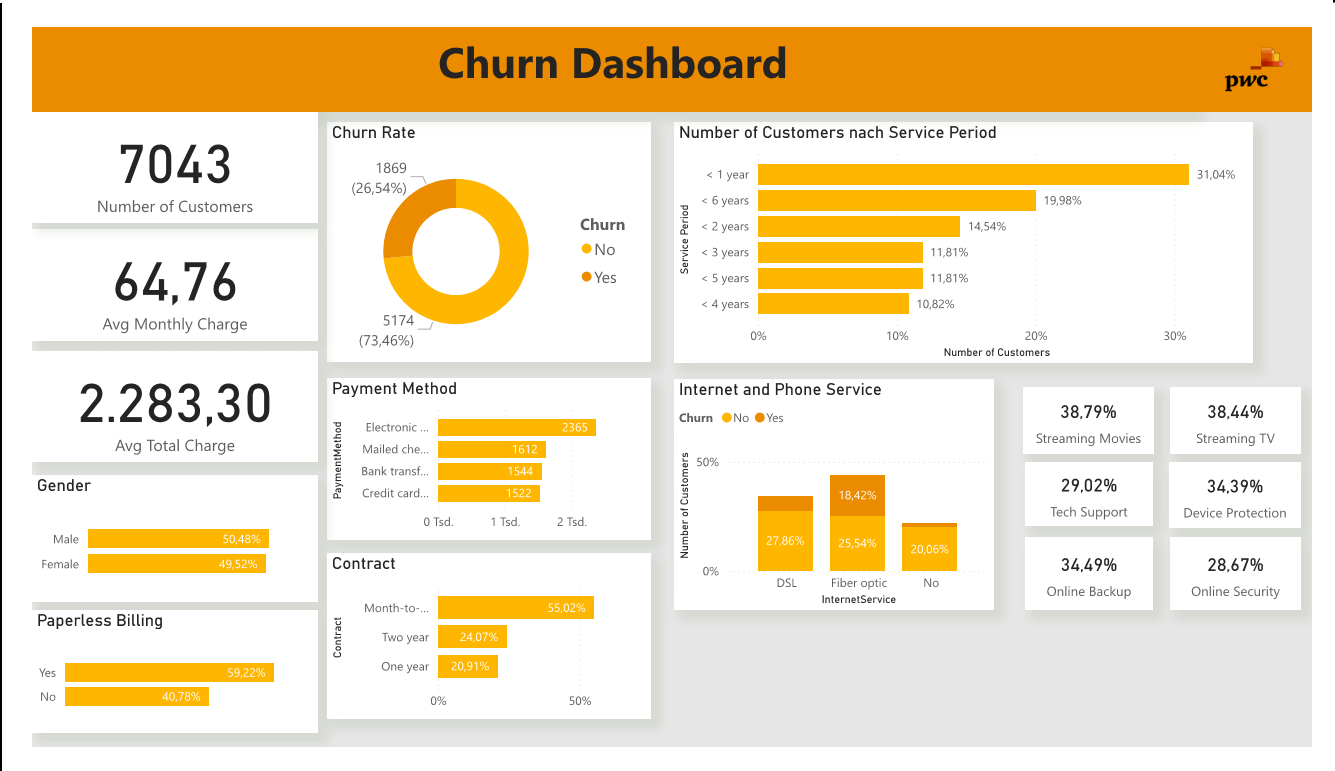

The page's visual inventory and layout, read from the dashboard file:
{"tool":"powerbi","page":{"name":"Seite 1","canvas":[1280,720],"ordinal":0},"visuals":[{"type":"textbox","box":[0,0,1161.8,85.3],"z":0,"group":"g1"},{"type":"donutChart","title":"Churn Rate","fields":{"Category":["01 Churn-Dataset.Churn"],"Y":["CountNonNull(01 Churn-Dataset.Churn)"]},"box":[295.1,94.7,323.7,239.8],"z":0},{"type":"card","fields":{"Values":["01 Churn-Dataset.Streaming Movies"]},"box":[990.8,360.2,131.3,67.1],"z":0,"group":"g2"},{"type":"image","box":[1162.1,0,117.9,85.3],"z":1000,"group":"g1"},{"type":"clusteredBarChart","title":"Payment Method","fields":{"Category":["01 Churn-Dataset.PaymentMethod"],"Y":["CountNonNull(01 Churn-Dataset.PaymentMethod)"]},"box":[295.1,351.3,323.7,161.9],"z":1000},{"type":"card","fields":{"Values":["01 Churn-Dataset.Streaming TV"]},"box":[1137.8,360.2,131.3,67.1],"z":1000,"group":"g2"},{"type":"card","fields":{"Values":["01 Churn-Dataset.Tech Support"]},"box":[992.8,435.2,128.3,64.1],"z":2000,"group":"g2"},{"type":"clusteredBarChart","title":"Gender","fields":{"Category":["01 Churn-Dataset.gender"],"Y":["CountNonNull(01 Churn-Dataset.customerID)"]},"box":[0,448,286,127],"z":2000},{"type":"columnChart","title":"Internet and Phone Service","fields":{"Category":["01 Churn-Dataset.InternetService","01 Churn-Dataset.PhoneService"],"Series":["01 Churn-Dataset.Churn"],"Y":["CountNonNull(01 Churn-Dataset.customerID)"]},"box":[641.9,351.7,320,231.6],"z":3000},{"type":"card","fields":{"Values":["01 Churn-Dataset.Device Protection"]},"box":[1136.9,435.2,132.2,66.1],"z":3000,"group":"g2"},{"type":"card","fields":{"Values":["01 Churn-Dataset.Online Security"]},"box":[1137.8,510.2,131.3,73],"z":4000,"group":"g2"},{"type":"clusteredBarChart","title":"Paperless Billing","fields":{"Category":["01 Churn-Dataset.PaperlessBilling"],"Y":["CountNonNull(01 Churn-Dataset.customerID)"]},"box":[0,583.3,286.2,122.4],"z":4000},{"type":"card","fields":{"Values":["Avg(01 Churn-Dataset.MonthlyCharges)"]},"box":[0,202.3,286.2,111.5],"z":5000},{"type":"card","fields":{"Values":["01 Churn-Dataset.Online Backup"]},"box":[992.8,510.2,128.3,73],"z":5000,"group":"g2"},{"type":"card","fields":{"Values":["Avg(01 Churn-Dataset.TotalCharges)"]},"box":[0,323.7,286.2,111.5],"z":6000},{"type":"clusteredBarChart","fields":{"Category":["01 Churn-Dataset.Service Period"],"Y":["CountNonNull(01 Churn-Dataset.customerID)"]},"box":[641.5,95.2,579.1,240.4],"z":7000},{"type":"group","id":"g1","title":"Gruppe 2","box":[0,0,1280,85.3],"z":8000},{"type":"card","fields":{"Values":["CountNonNull(01 Churn-Dataset.customerID)"]},"box":[0,84.9,286.2,111.5],"z":9000},{"type":"clusteredBarChart","title":"Contract ","fields":{"Category":["01 Churn-Dataset.Contract"],"Y":["CountNonNull(01 Churn-Dataset.Contract)"]},"box":[295.1,526,323.7,165.8],"z":10000},{"type":"group","id":"g2","title":"Gruppe 1","box":[990.8,360.2,278.3,223],"z":10007}]}

Visuals, with their boxes in screenshot pixels (x1, y1, x2, y2), scaled from the page's 1280x720 canvas onto the 1335x771 screenshot:
textbox: <box>0,0,1212,91</box>
"Churn Rate" donutChart: <box>308,101,645,358</box>
card - 01 Churn-Dataset.Streaming Movies: <box>1033,386,1170,458</box>
image: <box>1212,0,1334,91</box>
"Payment Method" clusteredBarChart: <box>308,376,645,550</box>
card - 01 Churn-Dataset.Streaming TV: <box>1187,386,1324,458</box>
card - 01 Churn-Dataset.Tech Support: <box>1035,466,1169,535</box>
"Gender" clusteredBarChart: <box>0,480,298,616</box>
"Internet and Phone Service" columnChart: <box>669,377,1003,625</box>
card - 01 Churn-Dataset.Device Protection: <box>1186,466,1324,537</box>
card - 01 Churn-Dataset.Online Security: <box>1187,546,1324,625</box>
"Paperless Billing" clusteredBarChart: <box>0,625,298,756</box>
card - Avg(01 Churn-Dataset.MonthlyCharges): <box>0,217,298,336</box>
card - 01 Churn-Dataset.Online Backup: <box>1035,546,1169,625</box>
card - Avg(01 Churn-Dataset.TotalCharges): <box>0,347,298,466</box>
clusteredBarChart - 01 Churn-Dataset.Service Period x CountNonNull(01 Churn-Dataset.customerID): <box>669,102,1273,359</box>
"Gruppe 2" group: <box>0,0,1334,91</box>
card - CountNonNull(01 Churn-Dataset.customerID): <box>0,91,298,210</box>
"Contract " clusteredBarChart: <box>308,563,645,741</box>
"Gruppe 1" group: <box>1033,386,1324,625</box>
